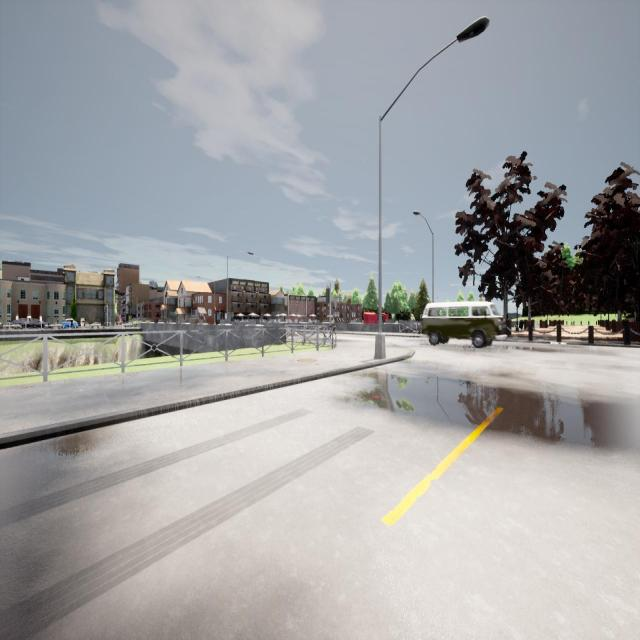Vehicle: (421, 301, 507, 347), (12, 317, 44, 328), (62, 319, 78, 329)
traffic_light: (326, 288, 330, 304), (214, 307, 217, 314), (104, 306, 107, 313)
